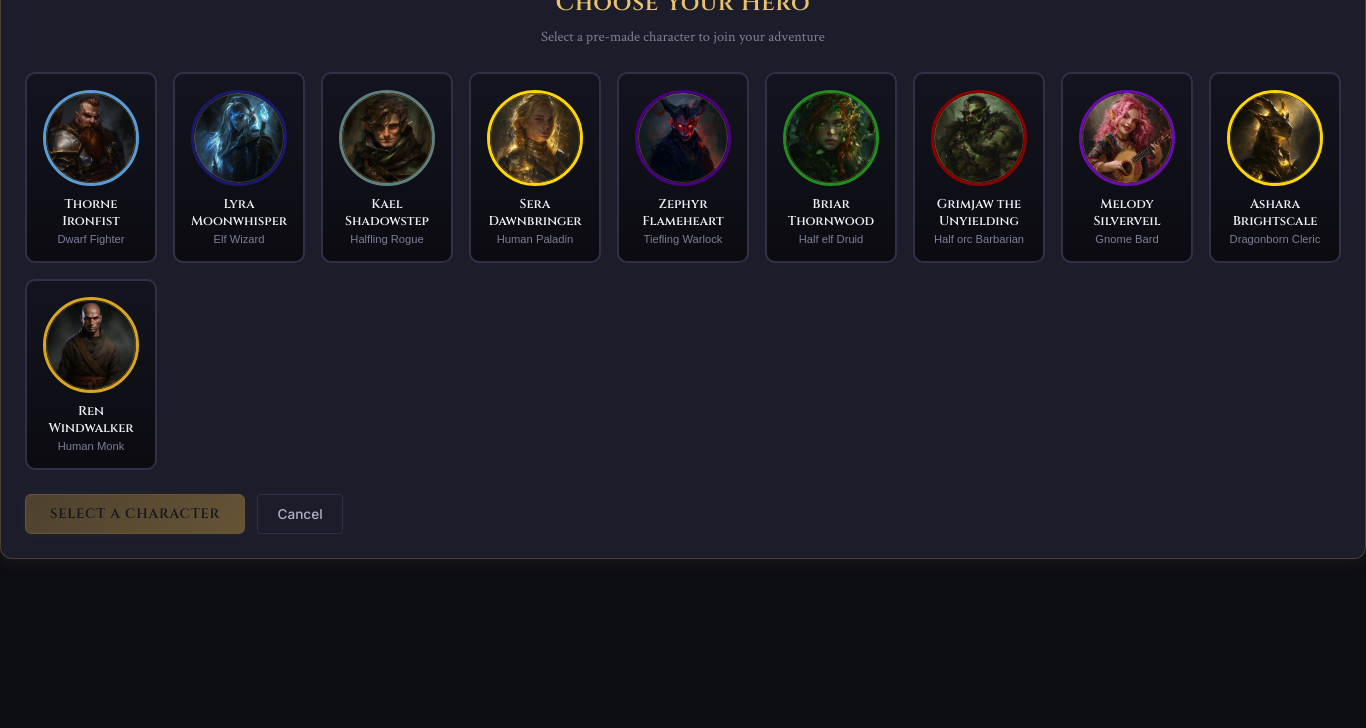
Test: CharacterPicker › shows detail panel when a character is selected
What coordinates should you click on to do the following:
click the button with test id "picker-card-premade-thorne"
I would click on:
 (91, 167)
Its box is [25,72,157,263].
(page scrolled)
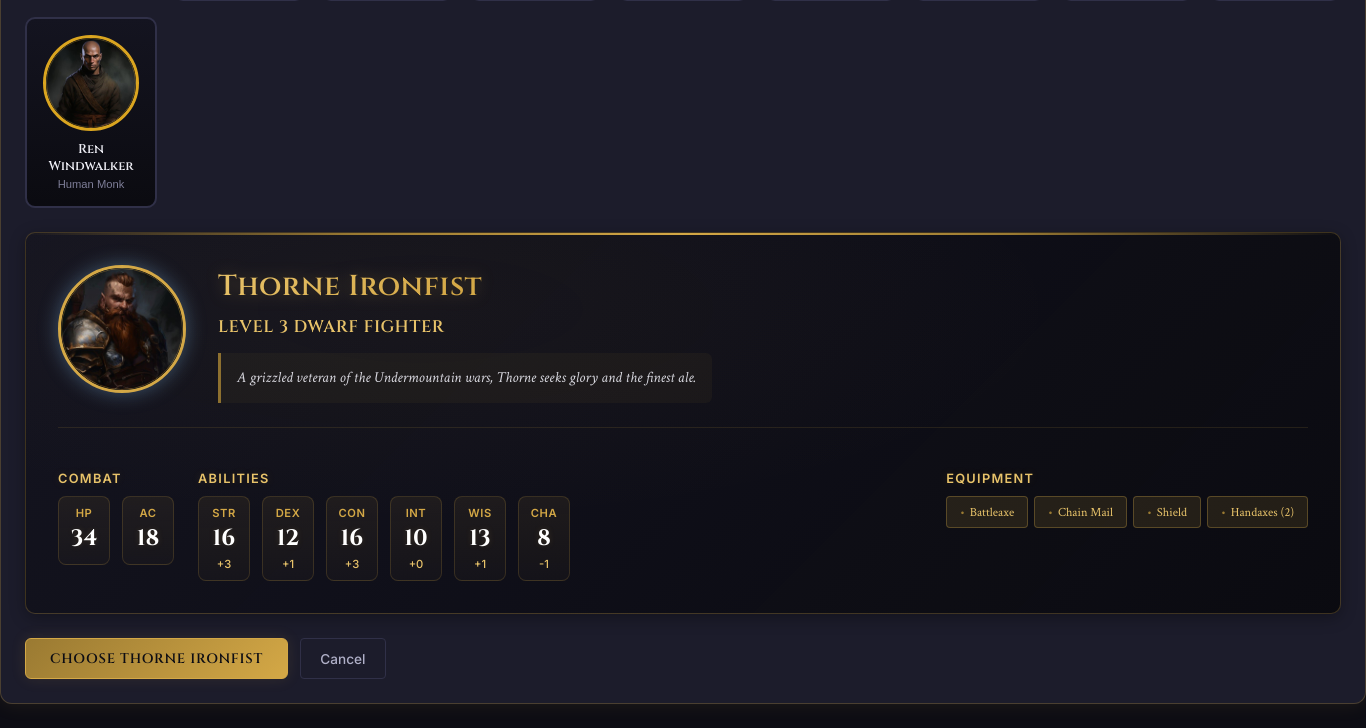
Result: the element with test id "picker-detail" is shown at [25,232,1341,614]
